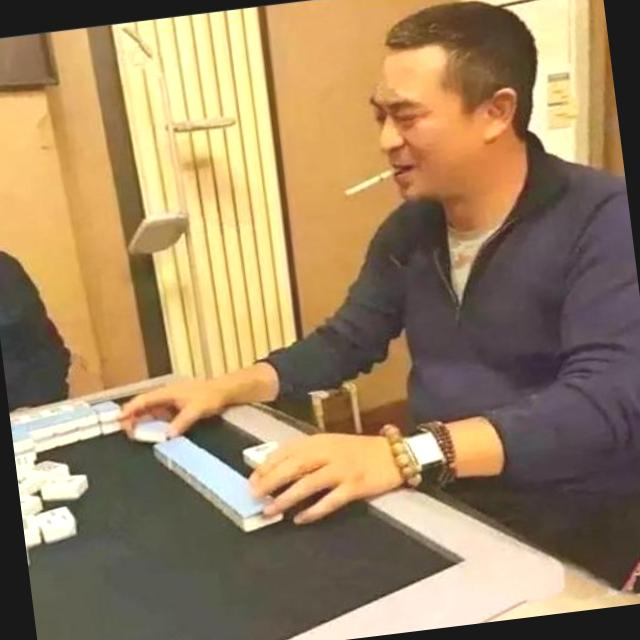cigarette: (322, 152, 417, 204)
